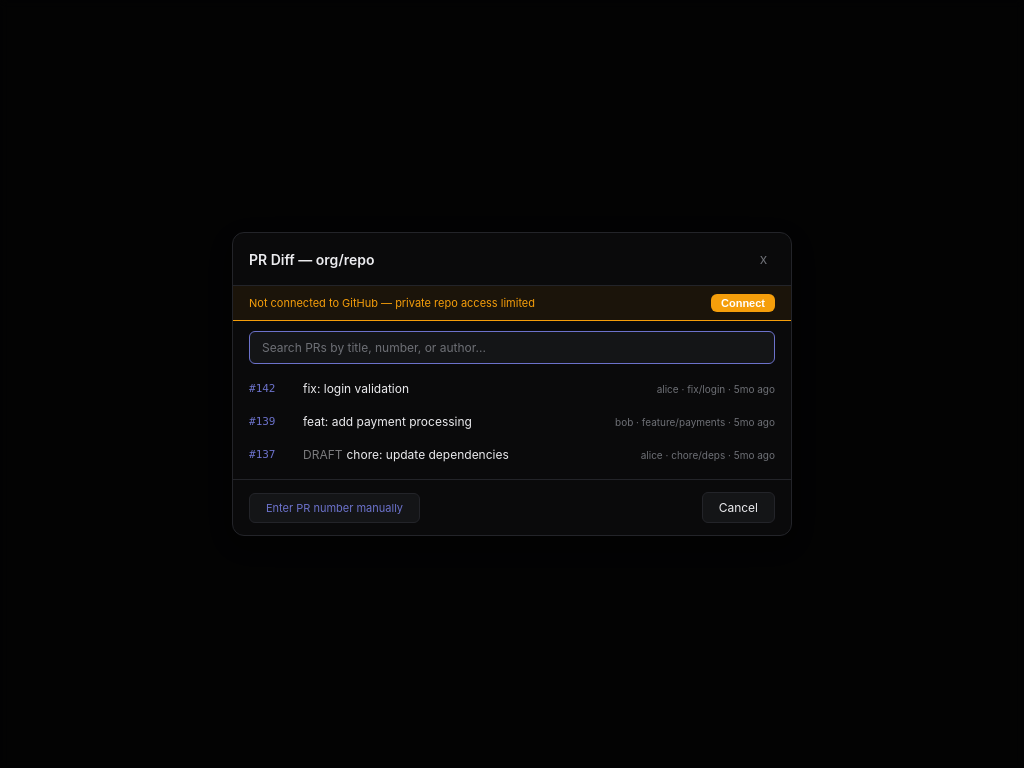
PrPicker › shows manual number input on toggle
Click the button "Enter PR number manually" at (334, 508), box [249,492,420,522]
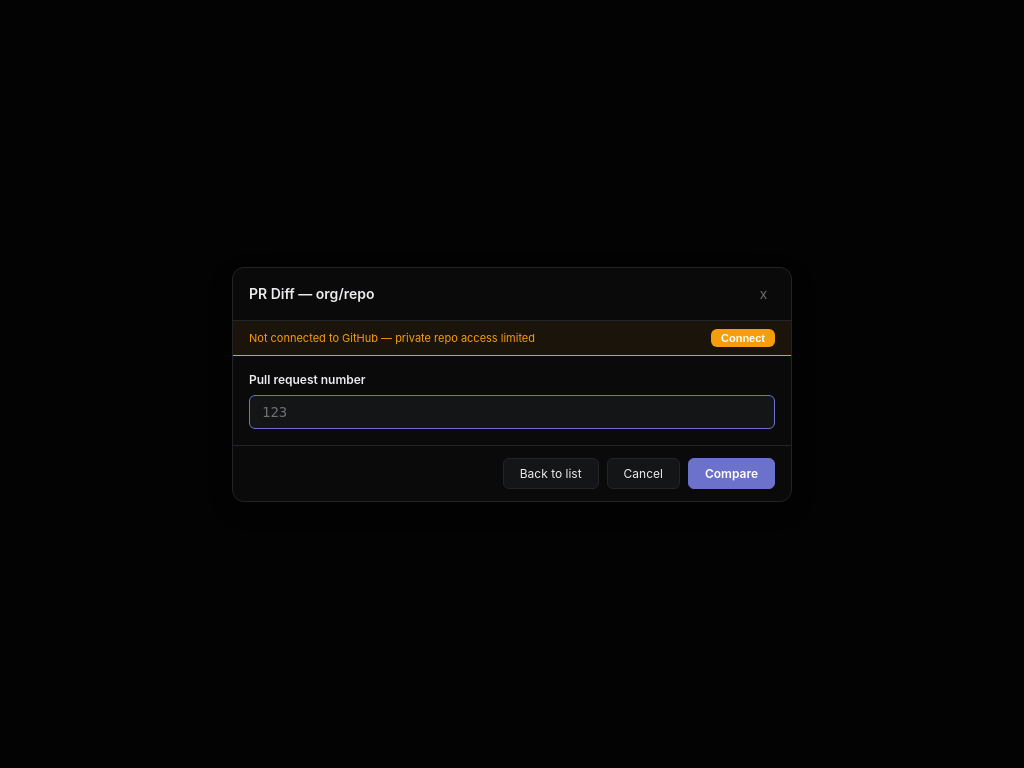
Expected: the field with placeholder "123" is shown, [249,394,775,428]
Expected: the button "Back to list" is shown, [503,458,599,488]
